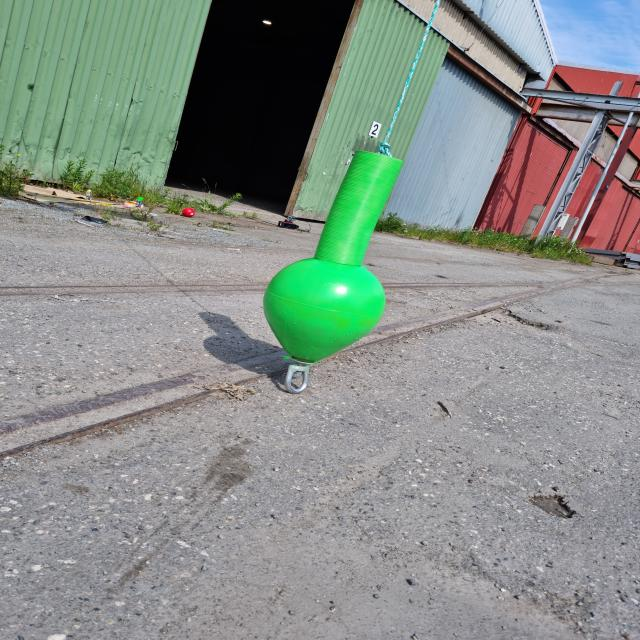green: (265, 149, 405, 365)
